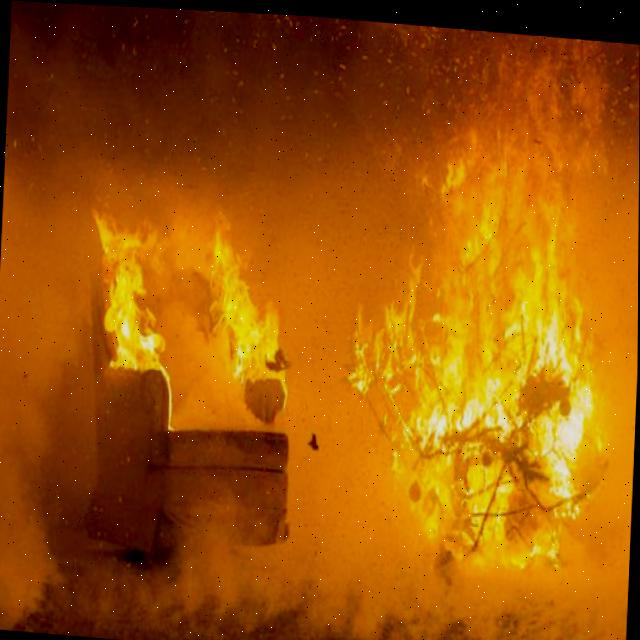fire: (347, 29, 606, 559), (96, 215, 289, 420)
smoke: (0, 0, 640, 640)
